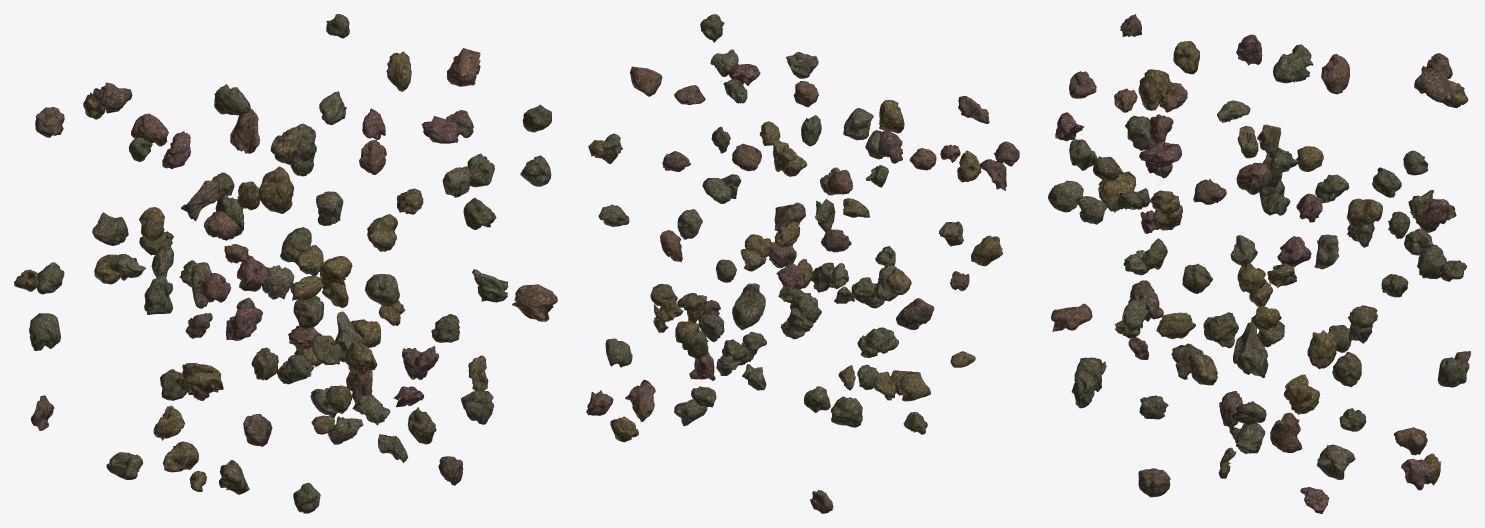
Rendered from asteroids.fbx.
The picture shows the model from 3 angles, left to right: view 1: azimuth 30°, elevation 25°; view 2: azimuth 150°, elevation 25°; view 3: azimuth 270°, elevation 25°; orthographic projection. The views are drawn at different scales.
Visible parts, largest first — view 1: asteroid_33, asteroid_99, asteroid_38, asteroid_3, asteroid_2, asteroid_39, asteroid_35, asteroid_91, asteroid_87, asteroid_70, asteroid_15, asteroid_56 (+46 smaller); view 2: asteroid_43, asteroid_3, asteroid_68, asteroid_82, asteroid_33, asteroid_38, asteroid_2, asteroid_50, asteroid_98, asteroid_99, asteroid_22, asteroid_45 (+28 smaller); view 3: asteroid_43, asteroid_33, asteroid_92, asteroid_47, asteroid_29, asteroid_2, asteroid_74, asteroid_32, asteroid_38, asteroid_56, asteroid_14, asteroid_87 (+59 smaller).
Boxes of the visible parts, x1,y1,x2,y2 form: asteroid_33: [258, 166, 294, 213]; asteroid_99: [512, 284, 557, 321]; asteroid_38: [447, 48, 480, 86]; asteroid_3: [29, 313, 60, 350]; asteroid_2: [182, 362, 223, 394]; asteroid_39: [230, 109, 259, 153]; asteroid_35: [144, 276, 173, 314]; asteroid_91: [226, 307, 262, 340]; asteroid_87: [365, 274, 399, 306]; asteroid_70: [367, 214, 397, 251]; asteroid_15: [92, 212, 128, 245]; asteroid_56: [214, 84, 250, 115]; asteroid_43: [732, 283, 765, 330]; asteroid_3: [831, 396, 862, 427]; asteroid_68: [896, 298, 934, 329]; asteroid_82: [843, 108, 873, 140]; asteroid_33: [879, 100, 904, 133]; asteroid_38: [630, 66, 662, 96]; asteroid_2: [971, 235, 1002, 266]; asteroid_50: [900, 372, 930, 401]; asteroid_98: [864, 327, 898, 353]; asteroid_99: [732, 143, 761, 171]; asteroid_22: [878, 130, 902, 163]; asteroid_45: [605, 338, 632, 367]; asteroid_43: [1233, 322, 1268, 377]; asteroid_33: [1138, 69, 1171, 110]; asteroid_92: [1270, 412, 1302, 452]; asteroid_47: [1414, 66, 1451, 102]; asteroid_29: [1316, 444, 1355, 479]; asteroid_2: [1098, 164, 1136, 212]; asteroid_74: [1307, 330, 1337, 369]; asteroid_32: [1321, 54, 1349, 94]; asteroid_38: [1236, 162, 1272, 194]; asteroid_56: [1273, 53, 1309, 83]; asteroid_14: [1346, 198, 1382, 228]; asteroid_87: [1048, 180, 1083, 212].
Size of the model in its own units: 3139 by 3018 by 3126.
